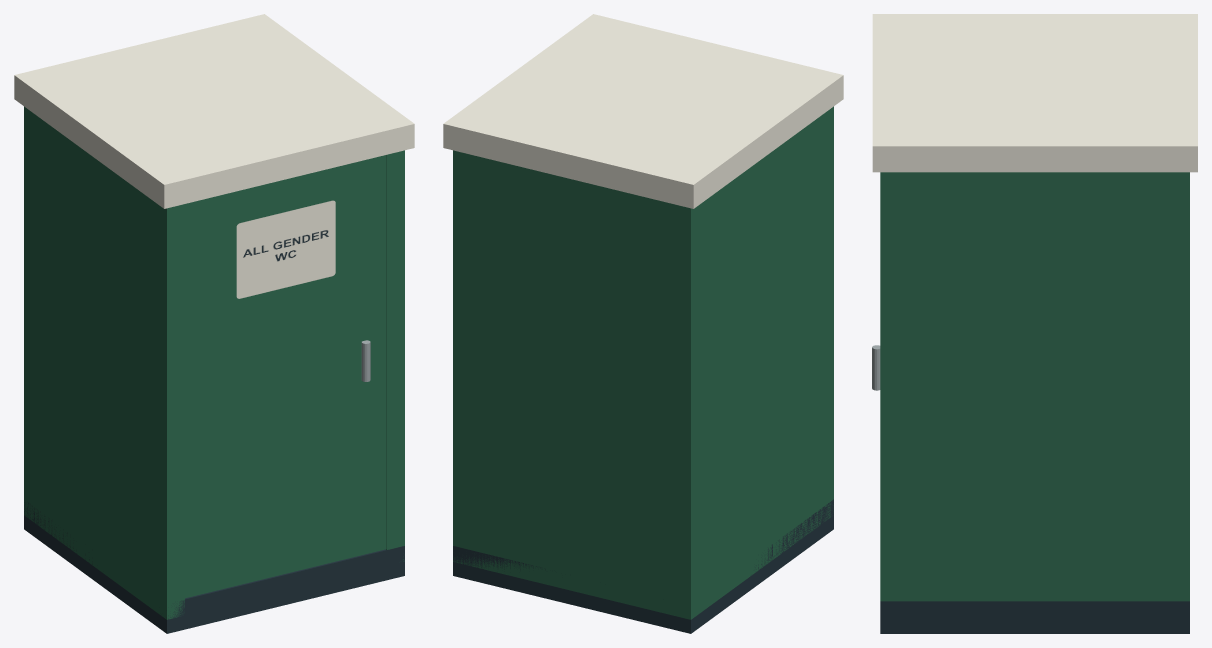
File: scendance-plan-gender-neutral-toilet.glb
3 renders of one model, left to right at view 1: azimuth 30°, elevation 25°; view 2: azimuth 150°, elevation 25°; view 3: azimuth 270°, elevation 25°, orthographic. The views are drawn at different scales.
Size of the model in its own units: 1.3 by 2.26 by 1.36.
5 materials, 1 textured.
